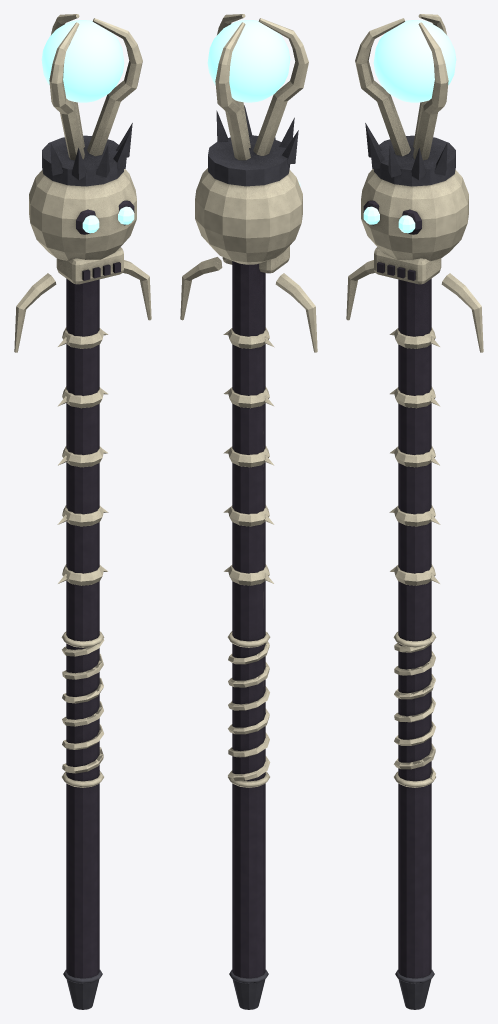
File: 09_dead_magic.fbx
The picture shows the model from 3 angles, left to right: view 1: azimuth 30°, elevation 25°; view 2: azimuth 150°, elevation 25°; view 3: azimuth 330°, elevation 25°; orthographic projection.
Parts seen in each view (by area): view 1: Weapon; view 2: Weapon; view 3: Weapon.
Part boxes in pixels (left/top/right/bottom): Weapon: left=14, top=14, right=151, bottom=1009; Weapon: left=180, top=14, right=317, bottom=1009; Weapon: left=346, top=14, right=483, bottom=1009.
Bounding box in the file's own units: 24.27 × 168 × 18.47.
Materials: 2 (1 with a texture image).
